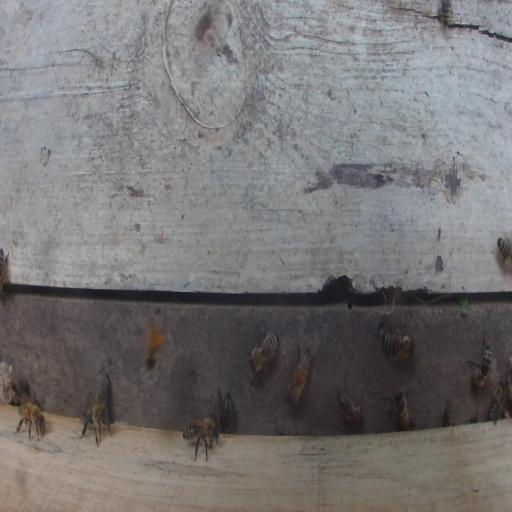bee: (181, 415, 221, 464), (284, 340, 312, 405), (464, 331, 492, 389), (15, 392, 47, 442), (246, 328, 278, 378), (79, 401, 112, 448), (382, 324, 415, 367), (338, 386, 368, 433), (145, 306, 165, 372), (389, 383, 414, 431), (217, 385, 240, 434), (488, 379, 507, 428), (88, 373, 111, 406), (496, 234, 511, 276)
